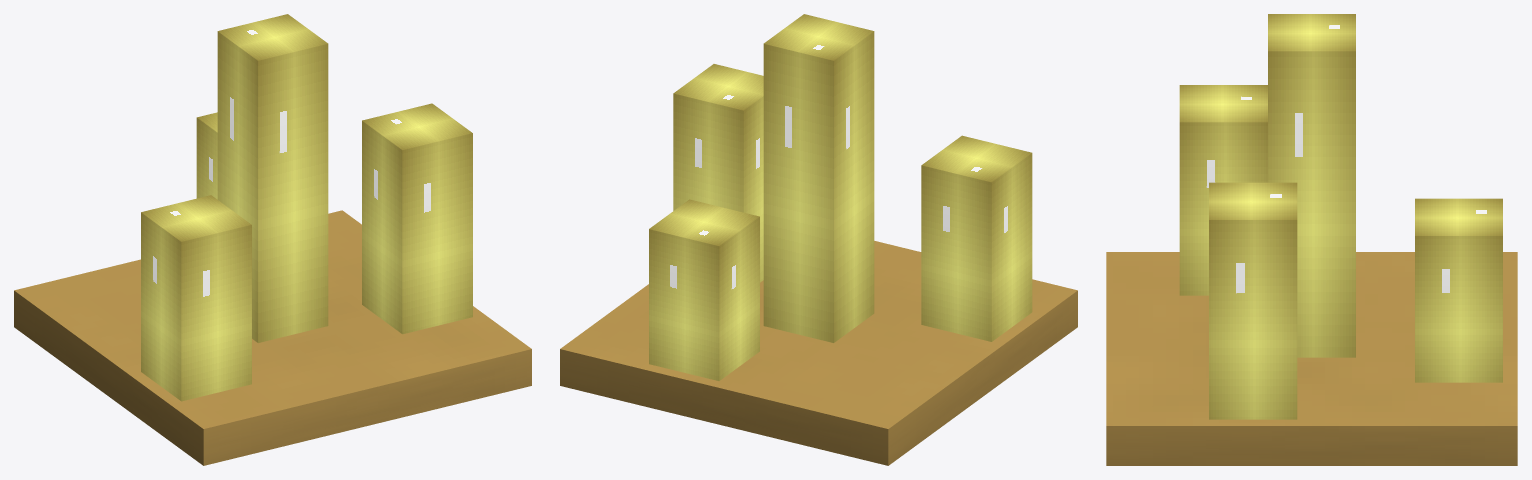
Rendered from plant_sparkdust.glb.
The picture shows the model from 3 angles, left to right: view 1: azimuth 30°, elevation 25°; view 2: azimuth 150°, elevation 25°; view 3: azimuth 270°, elevation 25°; orthographic projection. The views are drawn at different scales.
Parts seen in each view (by area): view 1: root; view 2: root; view 3: root.
Part boxes in pixels (x1,y1,x2,y2): root: [14, 14, 531, 465]; root: [560, 14, 1077, 465]; root: [1106, 14, 1517, 465].
Size of the model in its own units: 37.8 by 35.1 by 37.8.
2 materials, 2 textured.
